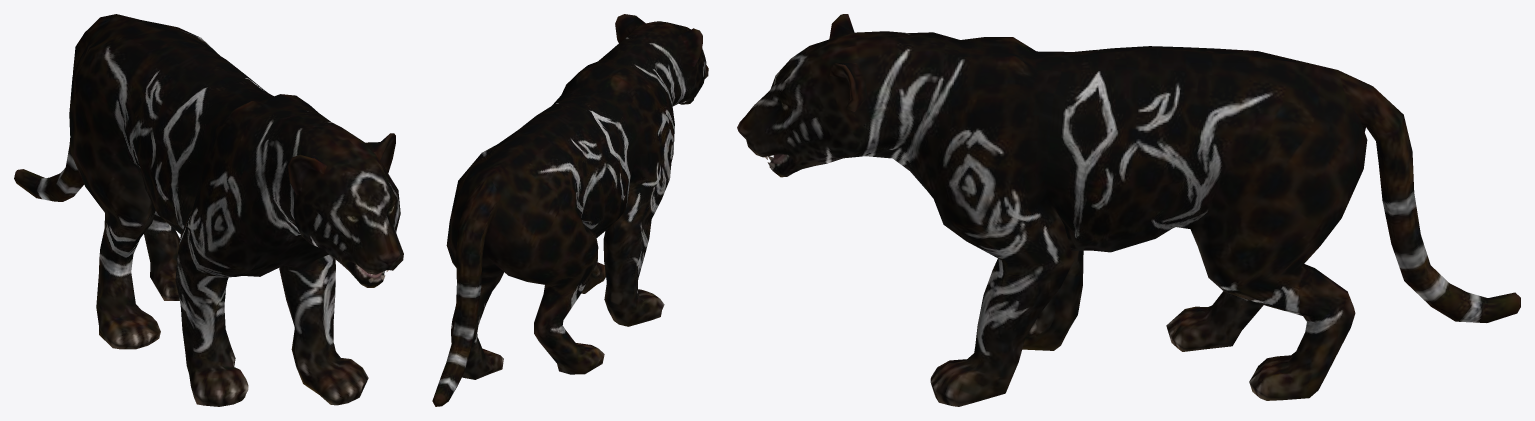
Rendered from body-championgreattemplesoldiers.glb.
3 renders of one model, left to right at view 1: azimuth 30°, elevation 25°; view 2: azimuth 150°, elevation 25°; view 3: azimuth 270°, elevation 25°, orthographic. The views are drawn at different scales.
Bounding box in the file's own units: 0.8146 × 1.55 × 3.27.
Materials: 1 (1 with a texture image).
